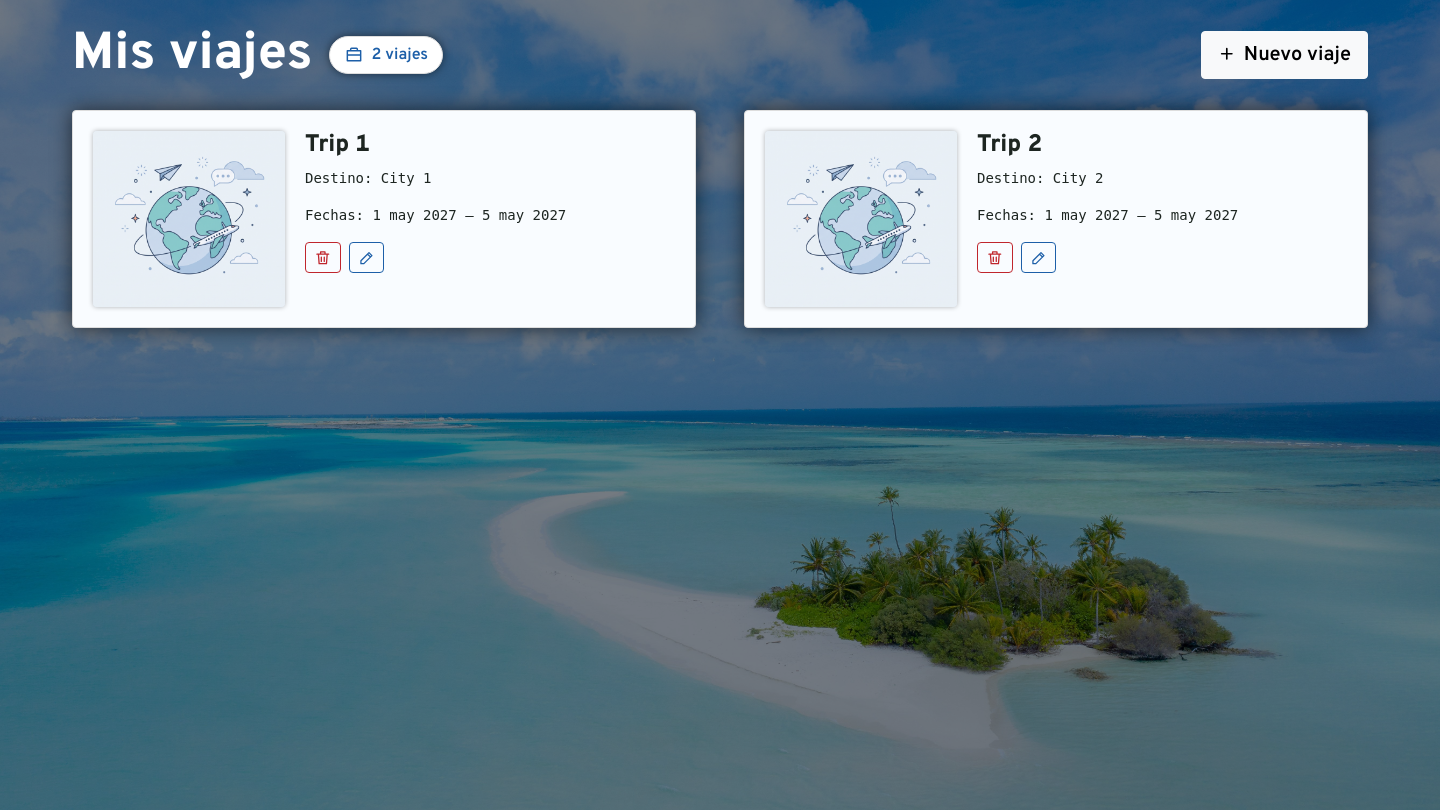
it: B4 deleting a trip from its card reloads the list from the first page
Expected: the link "Trip 1" is shown, top-left (305, 130), bottom-right (370, 160)
Click the button named "Eliminar Trip 1". click: (323, 258)
box: top-left (305, 242), bottom-right (341, 273)
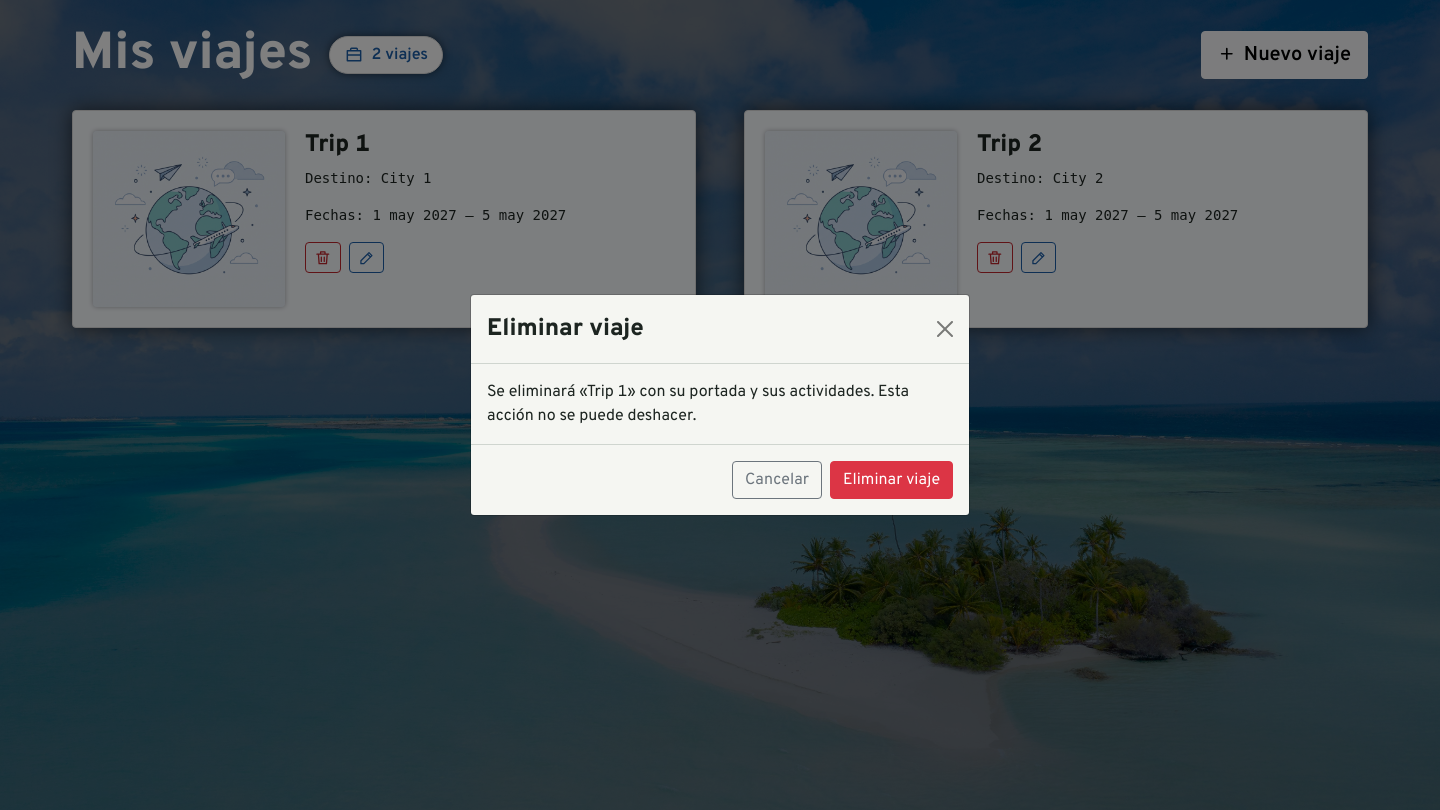
Click the button "Eliminar viaje". click: (892, 480)
box: top-left (830, 461), bottom-right (953, 499)
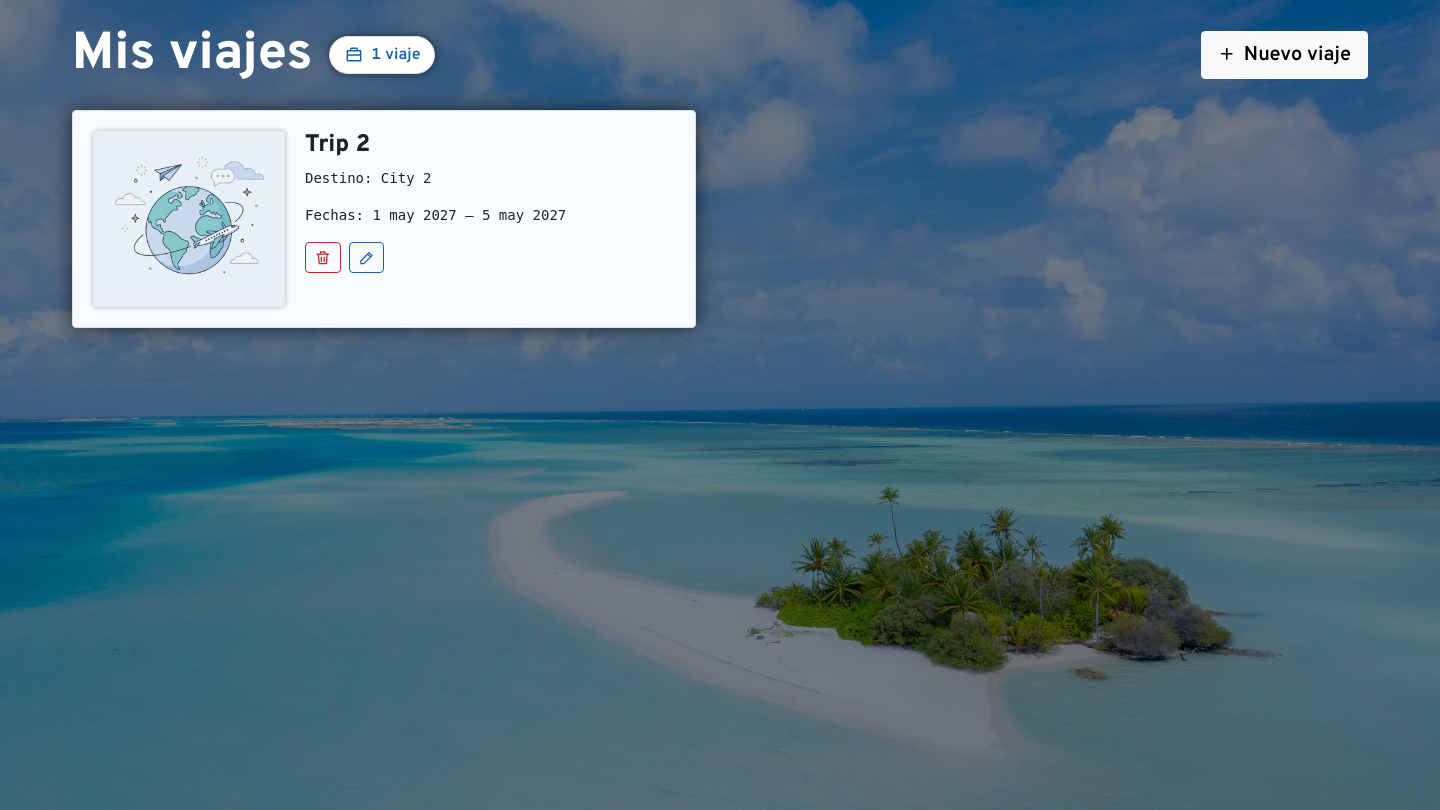
Expected: the link "Trip 2" is shown, top-left (305, 130), bottom-right (370, 160)
Now the link "Trip 1" is gone
Now the text "1 viaje" is shown, box top-left (329, 36), bottom-right (436, 74)
